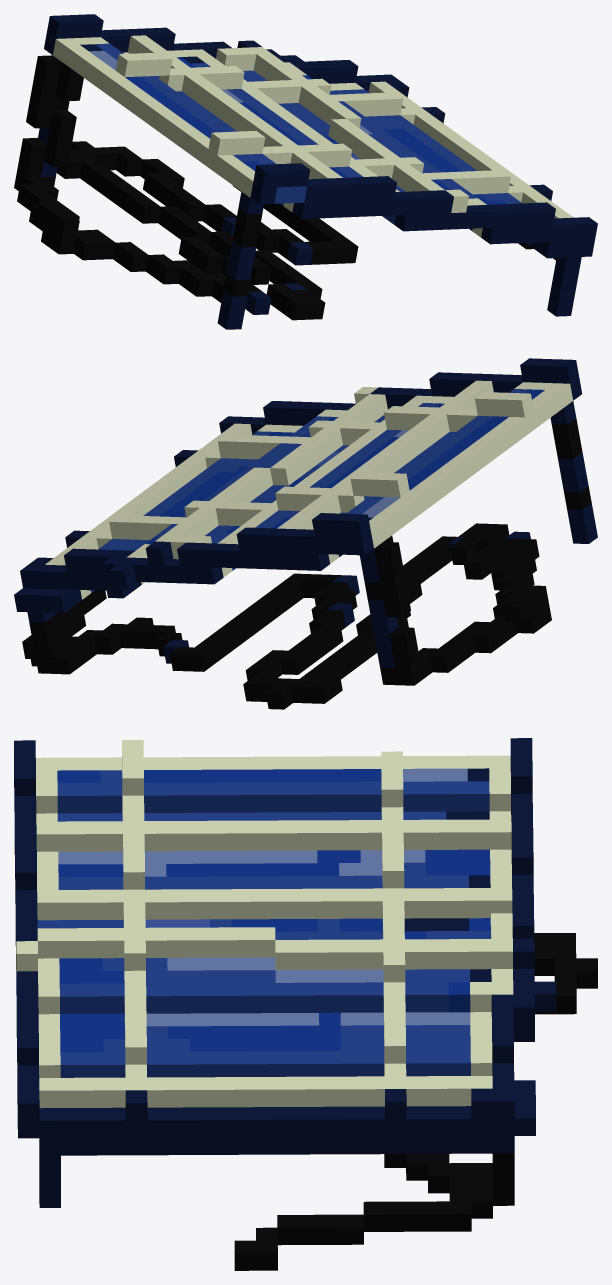
File: zonne panelen 1.fbx
3 renders of one model, top to bottom at view 1: azimuth 30°, elevation 25°; view 2: azimuth 150°, elevation 25°; view 3: azimuth 270°, elevation 25°, orthographic. The views are drawn at different scales.
Visible parts, largest first — view 1: Layer.021; view 2: Layer.021; view 3: Layer.021.
Part boxes in pixels (left/top/right/bottom): Layer.021: left=14, top=14, right=597, bottom=329; Layer.021: left=14, top=358, right=597, bottom=709; Layer.021: left=14, top=738, right=597, bottom=1270.
Size of the model in its own units: 1814 by 876 by 1551.
Materials: 1 (1 with a texture image).
